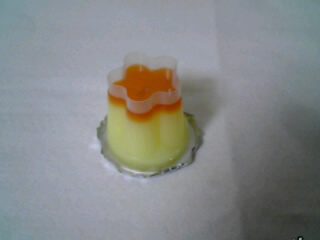001_classes: (85, 45, 212, 185)
